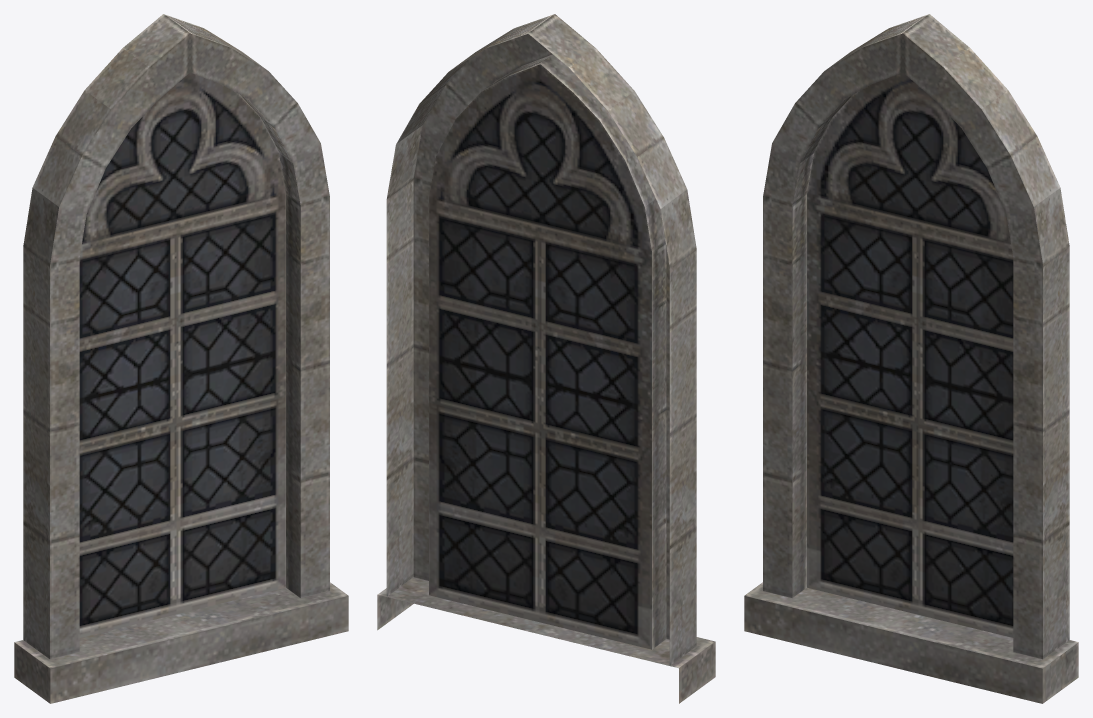
The model's file is bg_lut_lucastle_housewindow04_sm_sup.FBX.
3 renders of one model, left to right at view 1: azimuth 30°, elevation 25°; view 2: azimuth 150°, elevation 25°; view 3: azimuth 330°, elevation 25°, orthographic.
Visible parts, largest first — view 1: bg_lut_lucastle_housewindow04_sm_sup; view 2: bg_lut_lucastle_housewindow04_sm_sup; view 3: bg_lut_lucastle_housewindow04_sm_sup.
Boxes of the visible parts, left/top/right/bottom form: bg_lut_lucastle_housewindow04_sm_sup: left=14, top=14, right=348, bottom=703; bg_lut_lucastle_housewindow04_sm_sup: left=377, top=14, right=715, bottom=703; bg_lut_lucastle_housewindow04_sm_sup: left=744, top=14, right=1078, bottom=703.
Bounding box in the file's own units: 40.05 × 80.42 × 8.41.
